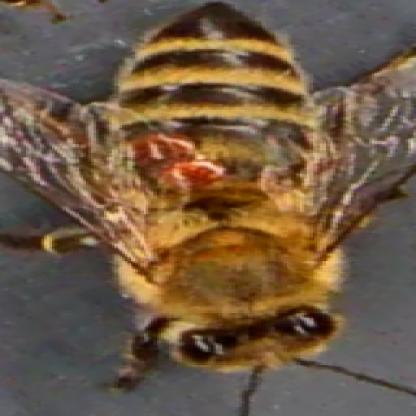bee: (105, 8, 345, 373)
vaoora: (132, 133, 192, 158), (168, 165, 223, 184)
